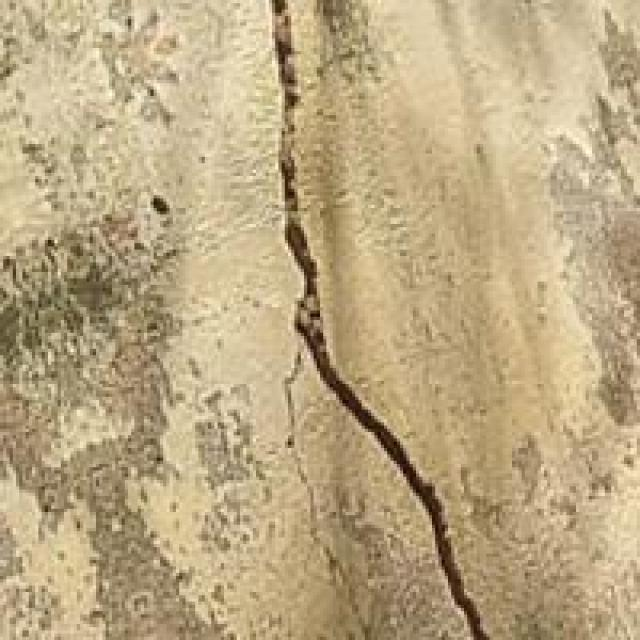crack: (233, 0, 534, 637)
